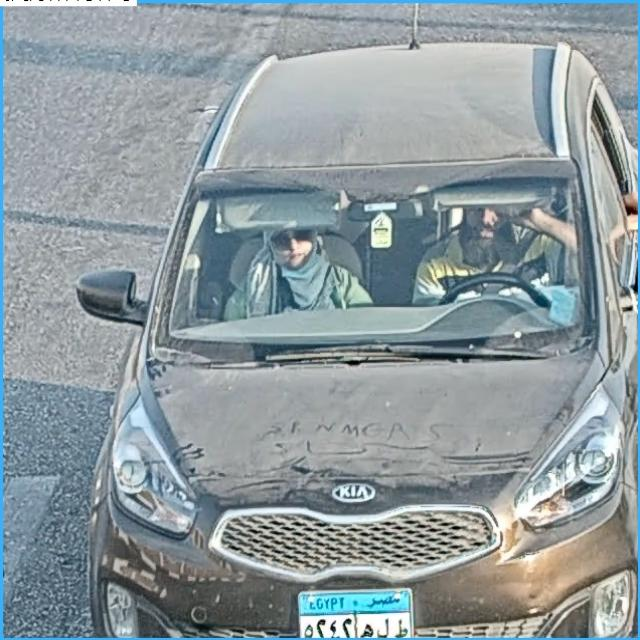windshield: (155, 171, 592, 347)
